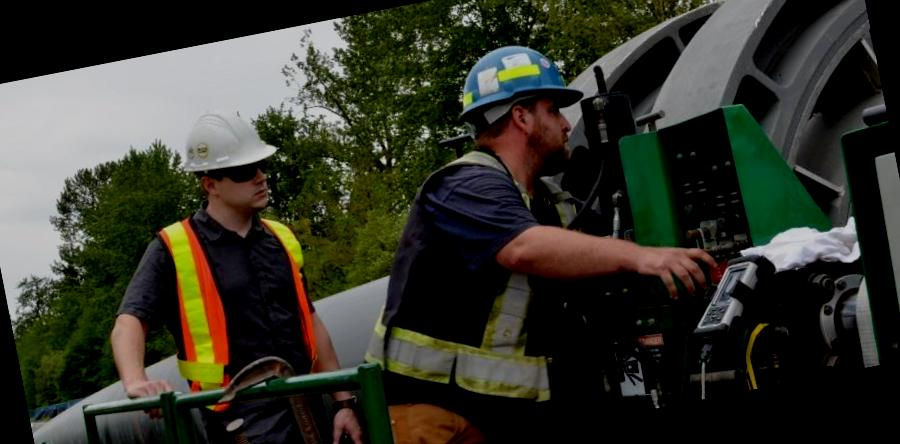helmet: (442, 31, 590, 136), (165, 97, 288, 189)
person: (335, 28, 649, 444), (138, 88, 369, 444)
